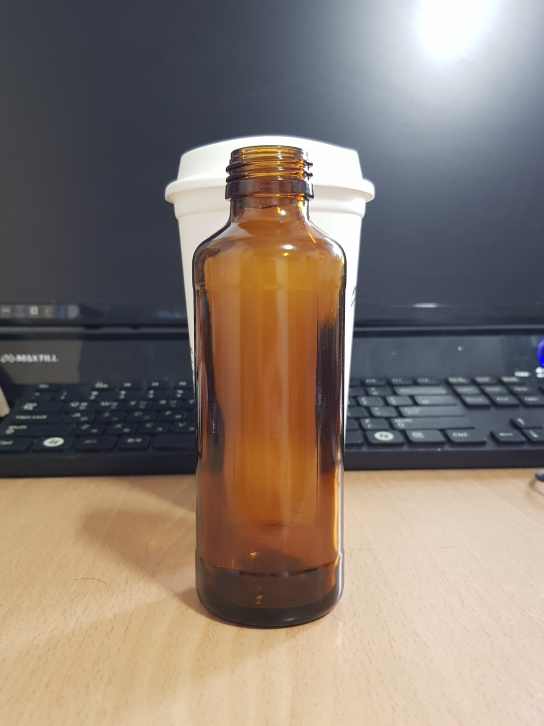Glass: (189, 143, 348, 633)
